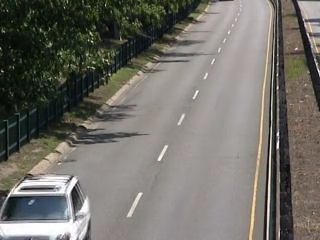car: (1, 167, 99, 238)
